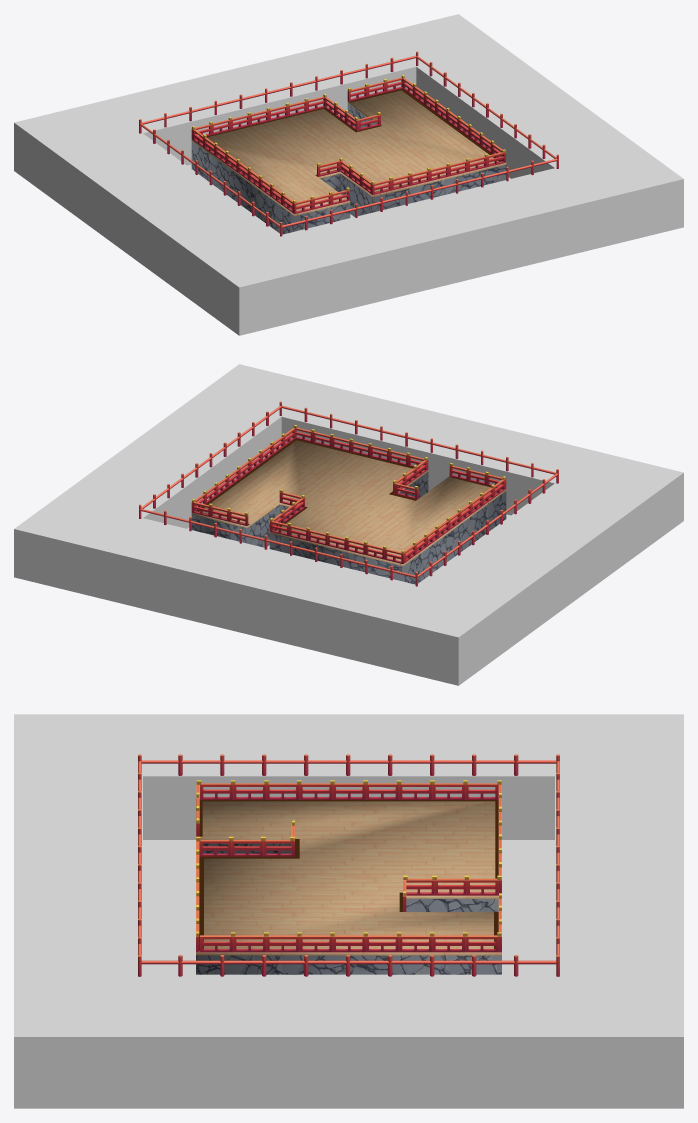
File: Battle_Stage 2.fbx
The picture shows the model from 3 angles, top to bottom: view 1: azimuth 30°, elevation 25°; view 2: azimuth 150°, elevation 25°; view 3: azimuth 270°, elevation 25°; orthographic projection. The views are drawn at different scales.
Visible parts, largest first — view 1: Platform_Cube__2_.003, Platform_Cube__2_, Cube.085, Cube.069, Platform_Cube__2_.002; view 2: Platform_Cube__2_.003, Platform_Cube__2_, Cube.085, Cube.069, Platform_Cube__2_.002; view 3: Platform_Cube__2_.003, Platform_Cube__2_, Cube.085, Cube.069, Platform_Cube__2_.002.
Boxes of the visible parts, x1,y1,x2,y2 form: Platform_Cube__2_.003: [14, 14, 683, 335]; Platform_Cube__2_: [191, 90, 506, 234]; Cube.085: [191, 75, 505, 213]; Cube.069: [139, 51, 558, 236]; Platform_Cube__2_.002: [196, 88, 501, 208]; Platform_Cube__2_.003: [14, 364, 683, 685]; Platform_Cube__2_: [191, 440, 506, 584]; Cube.085: [191, 425, 506, 564]; Cube.069: [139, 401, 558, 586]; Platform_Cube__2_.002: [196, 438, 501, 558]; Platform_Cube__2_.003: [14, 714, 683, 1108]; Platform_Cube__2_: [196, 799, 501, 974]; Cube.085: [196, 780, 501, 952]; Cube.069: [138, 754, 559, 976]; Platform_Cube__2_.002: [199, 800, 498, 950].
Bounding box in the file's own units: 11964 × 1590 × 10500.
